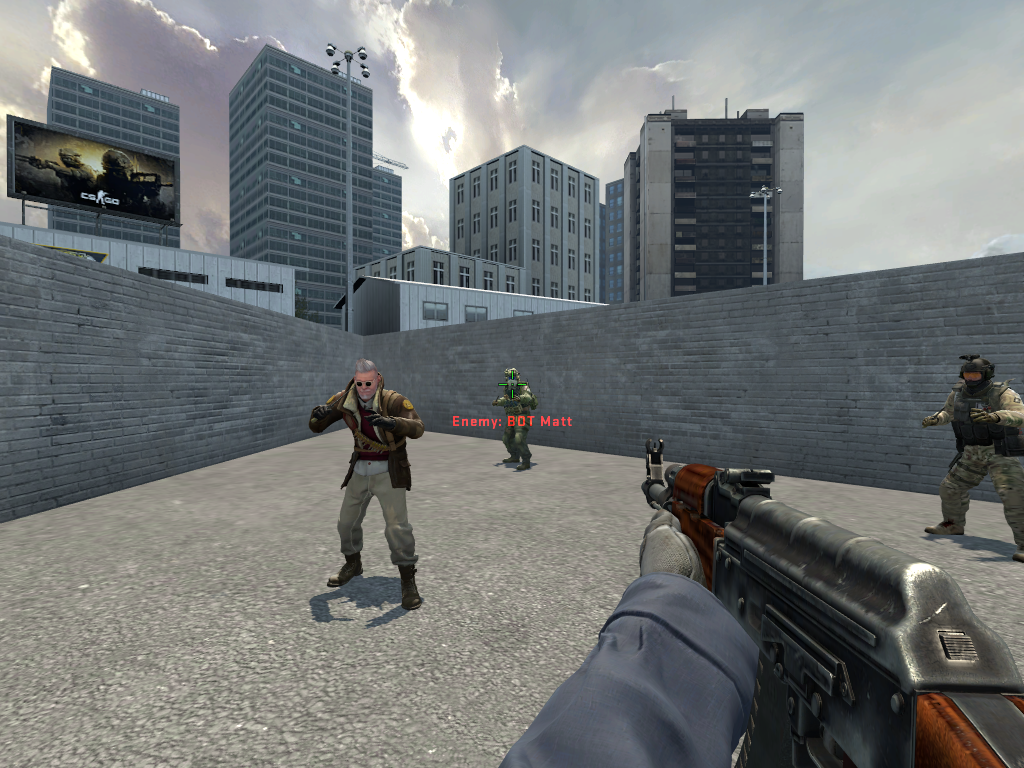ct head: (957, 352, 994, 392), (502, 367, 520, 387)
tr head: (352, 357, 381, 401)
